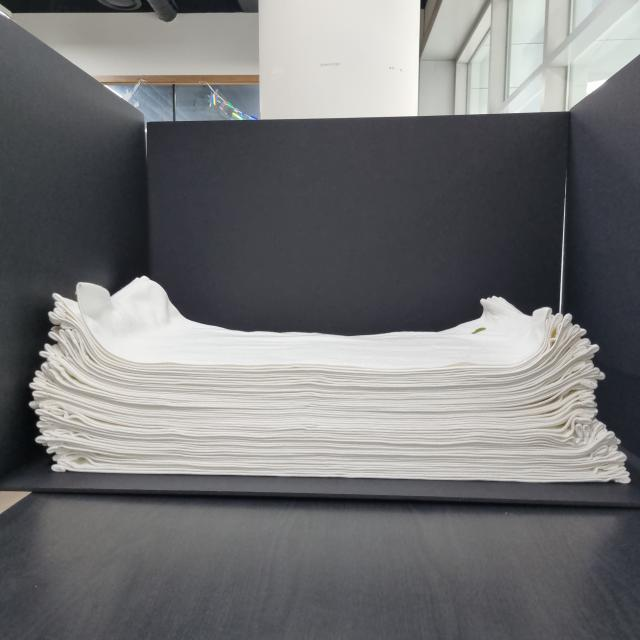50_towel_counts: (0, 218, 640, 494)
